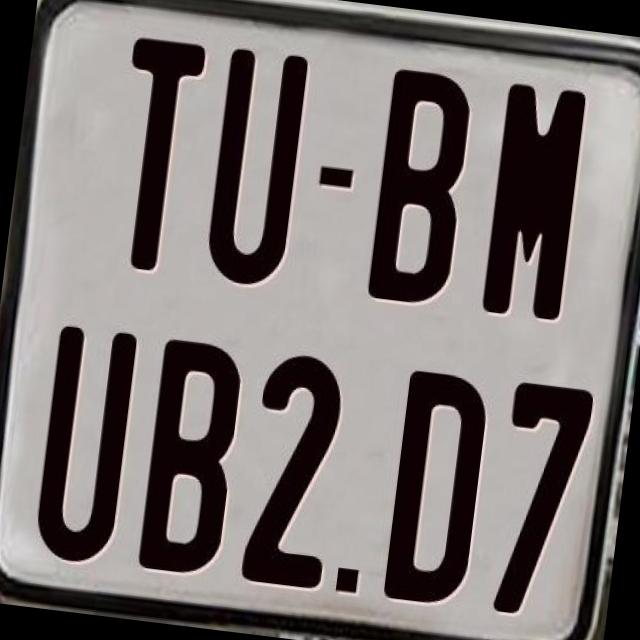2: (238, 348, 353, 594)
7: (486, 378, 596, 623)
B: (133, 334, 246, 582), (364, 66, 478, 306)
D: (381, 367, 497, 610)
M: (480, 77, 592, 324)
T: (106, 31, 212, 274)
U: (31, 322, 138, 562), (202, 43, 308, 283)
